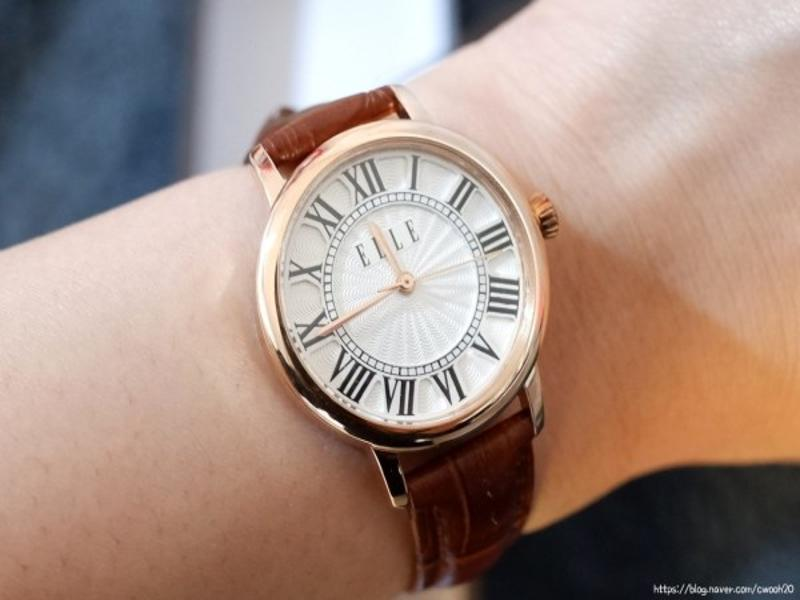watch: (242, 82, 562, 593)
